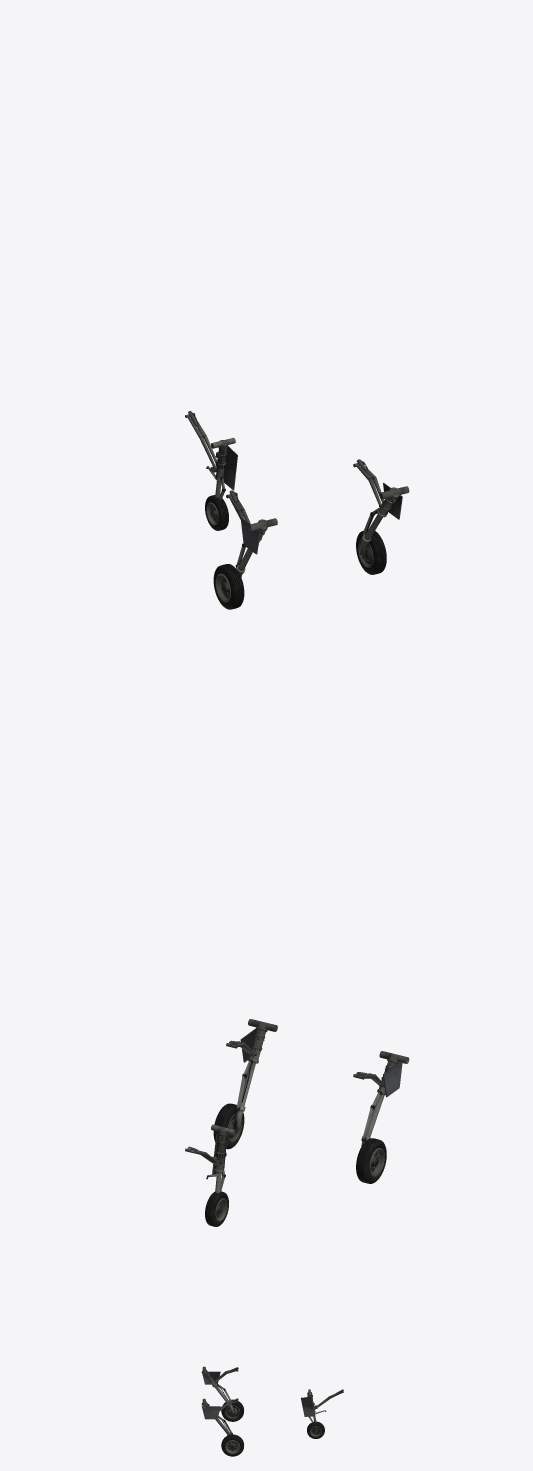
The model's file is e_typhoon_gear.glb.
The picture shows the model from 3 angles, top to bottom: view 1: azimuth 30°, elevation 25°; view 2: azimuth 150°, elevation 25°; view 3: azimuth 270°, elevation 25°; orthographic projection. The views are drawn at different scales.
Parts seen in each view (by area): view 1: body|Typhoon_paint; view 2: body|Typhoon_paint; view 3: body|Typhoon_paint.
Part boxes in pixels (x1=…): body|Typhoon_paint: x1=185, y1=411, x2=409, y2=609; body|Typhoon_paint: x1=185, y1=1019, x2=409, y2=1226; body|Typhoon_paint: x1=201, y1=1366, x2=343, y2=1456.
Size of the model in its own units: 2.88 by 6.39 by 15.97.
1 material, 1 textured.
